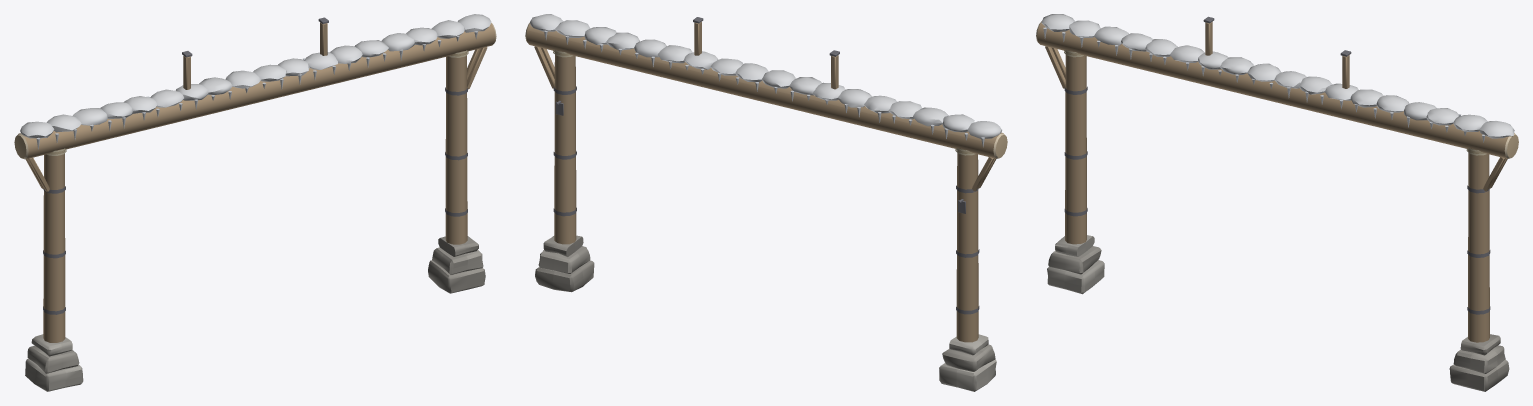
Rendered from snow_finish_gantry.glb.
3 renders of one model, left to right at view 1: azimuth 30°, elevation 25°; view 2: azimuth 150°, elevation 25°; view 3: azimuth 330°, elevation 25°, orthographic.
Visible parts, largest first — view 1: snow_finish_gantry; view 2: snow_finish_gantry; view 3: snow_finish_gantry.
Part boxes in pixels (x1,y1,x2,y2): snow_finish_gantry: (14, 14, 496, 391); snow_finish_gantry: (525, 14, 1007, 391); snow_finish_gantry: (1036, 14, 1518, 391).
Bounding box in the file's own units: 122 × 73.31 × 10.69.
